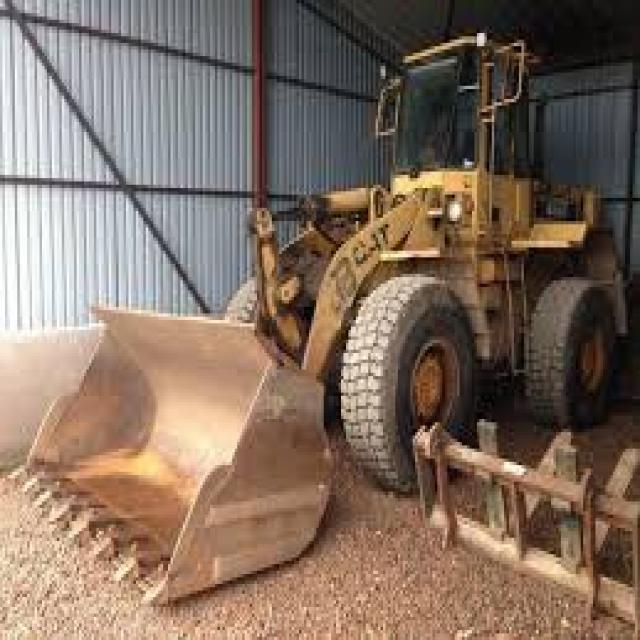buldozerpayloadergrader: (34, 34, 638, 614)
